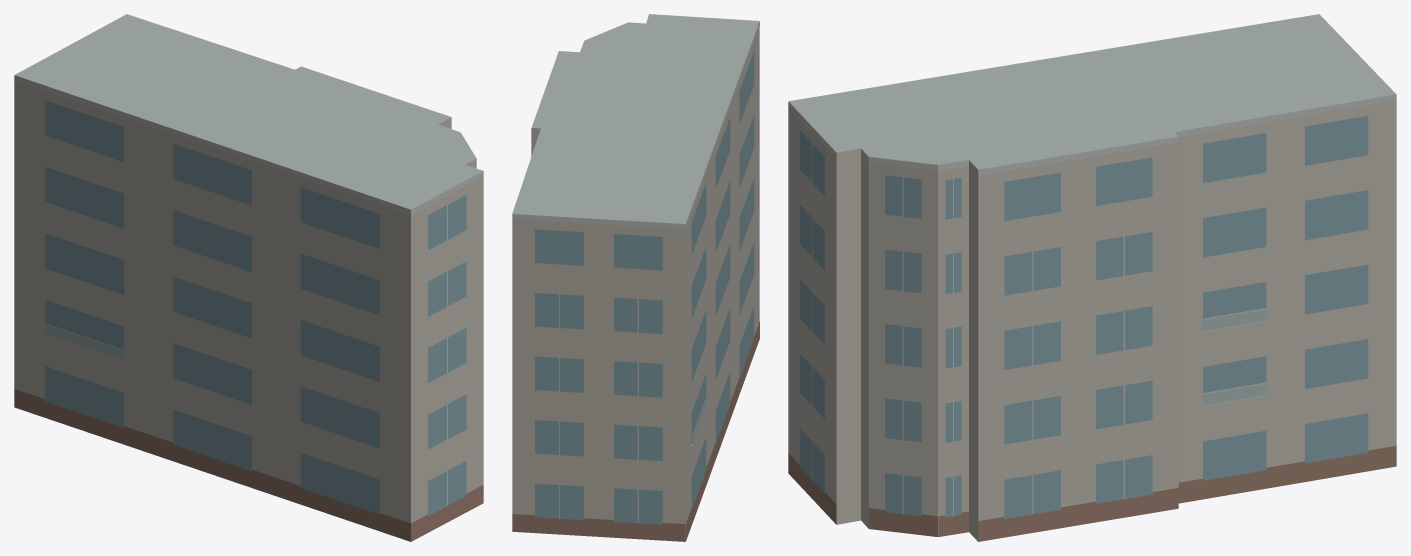
The model's file is survey-upis-32664599.glb.
3 renders of one model, left to right at view 1: azimuth 30°, elevation 25°; view 2: azimuth 150°, elevation 25°; view 3: azimuth 270°, elevation 25°, orthographic. The views are drawn at different scales.
Parts seen in each view (by area): view 1: survey-upis-32664599.tmp; view 2: survey-upis-32664599.tmp; view 3: survey-upis-32664599.tmp.
Boxes of the visible parts, x1,y1,x2,y2 form: survey-upis-32664599.tmp: (14, 14, 483, 541); survey-upis-32664599.tmp: (512, 14, 759, 541); survey-upis-32664599.tmp: (788, 14, 1396, 541).
Size of the model in its own units: 13.66 by 15.2 by 22.52.
